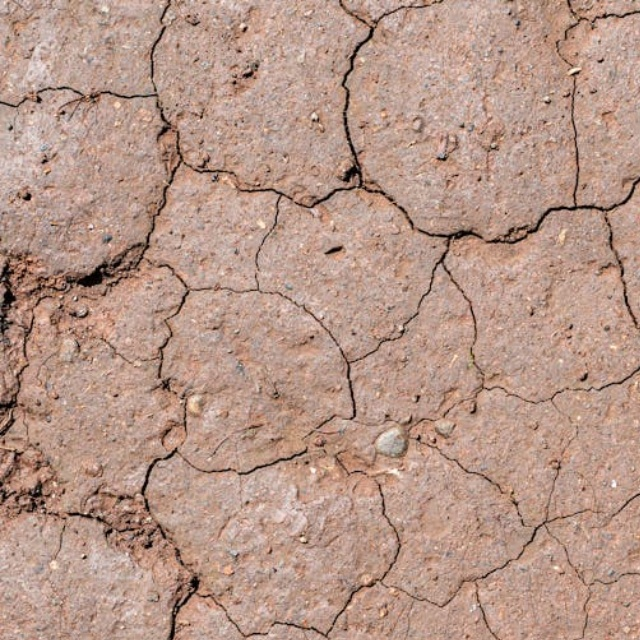细微裂纹: (316, 0, 403, 213)
网状裂隙: (60, 0, 640, 640)
